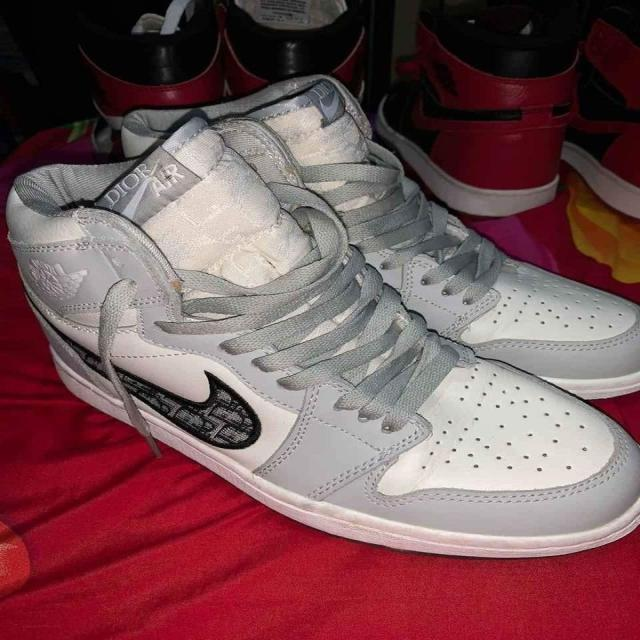nike fake jordan 1: (1, 114, 640, 560), (118, 67, 640, 402)
